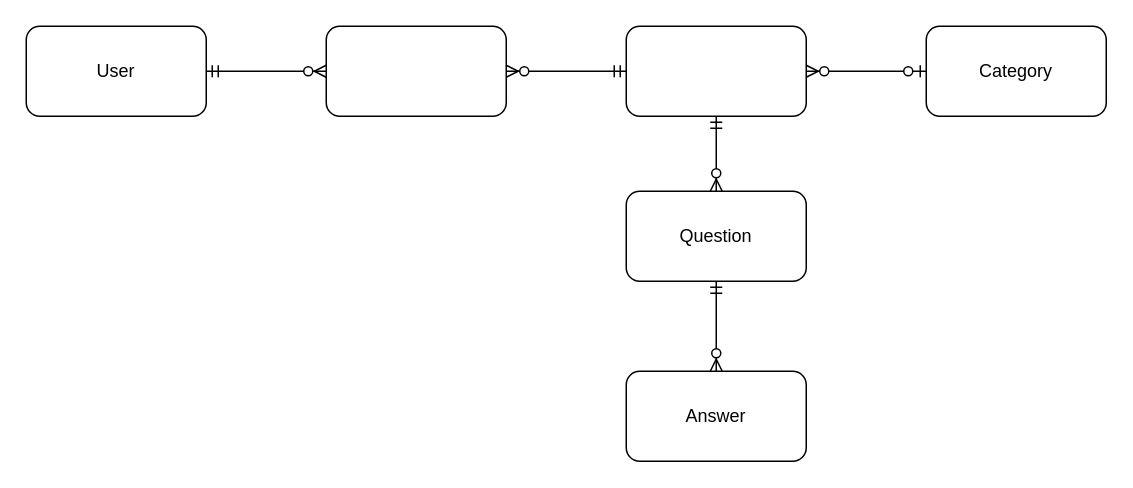
Image size: 1133x488. Some labels were removed from this diagram. The shapes that lost their labels are listed below. From the top down, each one's centre as x and y in pixels, then its label:
At point 415,70: "TestPassage".
At point 715,70: "Test".
